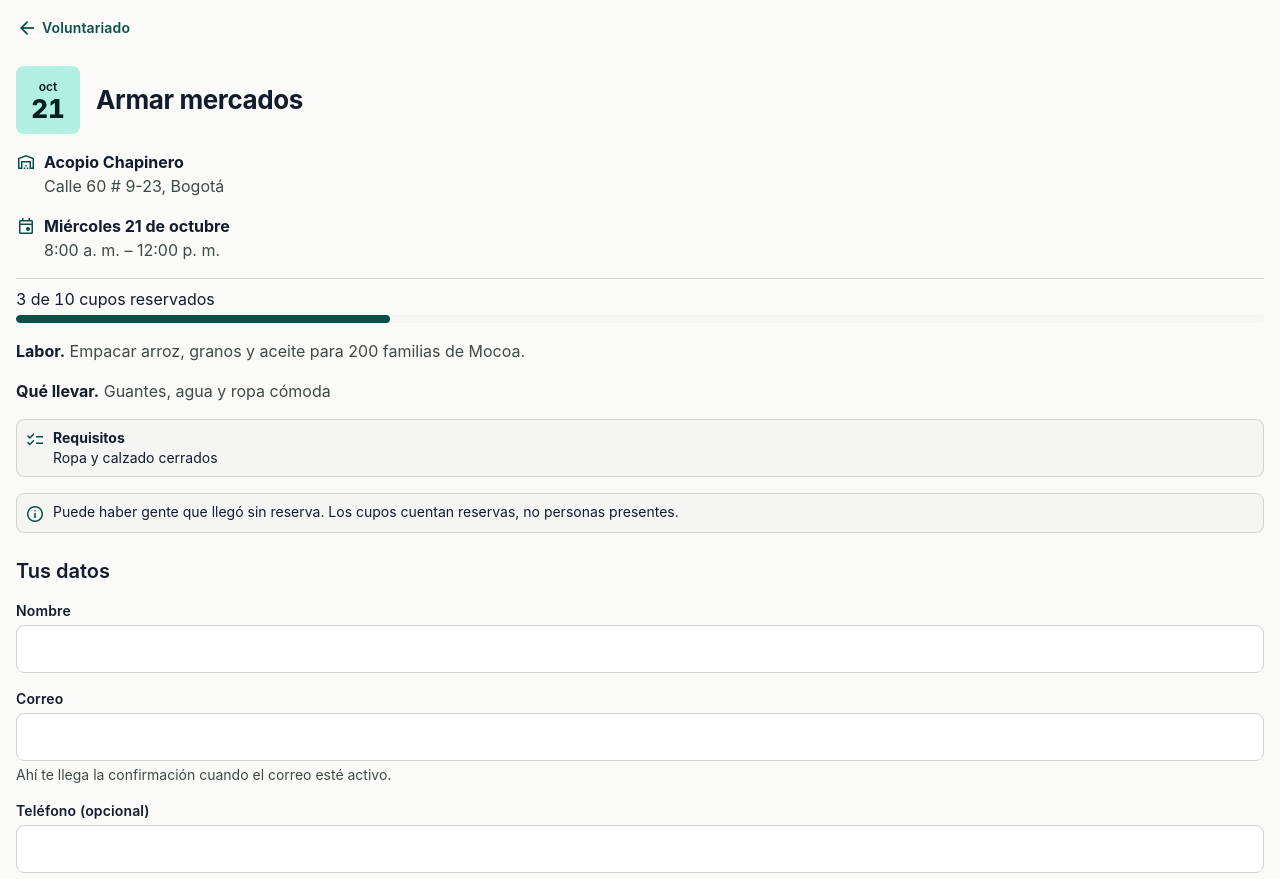
Test: no deja reservar con un nombre de una letra ni un teléfono con paréntesis
Type "A" into the field labelled "Nombre".
click(640, 649); type("A")  # box [16,625,1264,673]
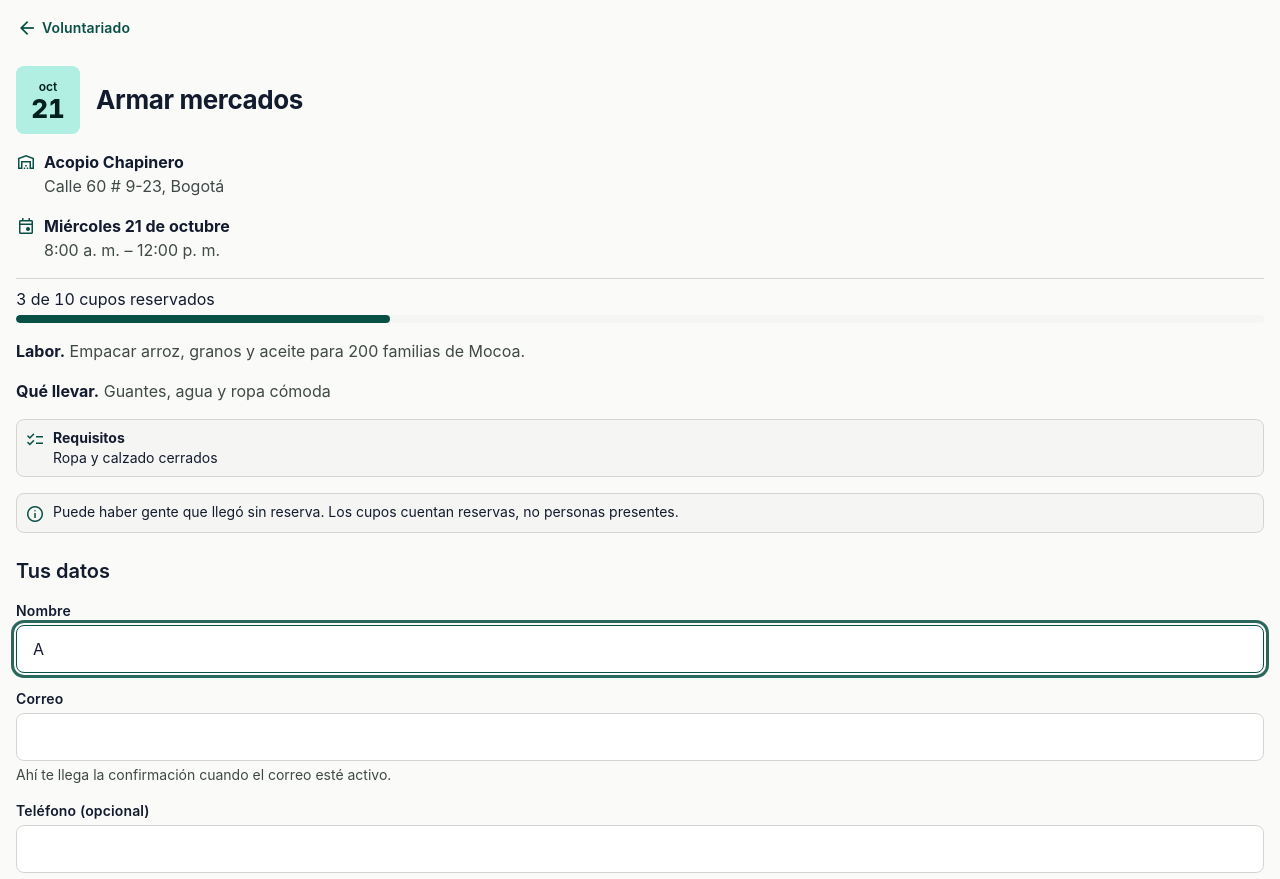
Type "ana@correo.co" into the field labelled "Correo".
click(640, 737); type("ana@correo.co")  # box [16,713,1264,761]
(page scrolled)
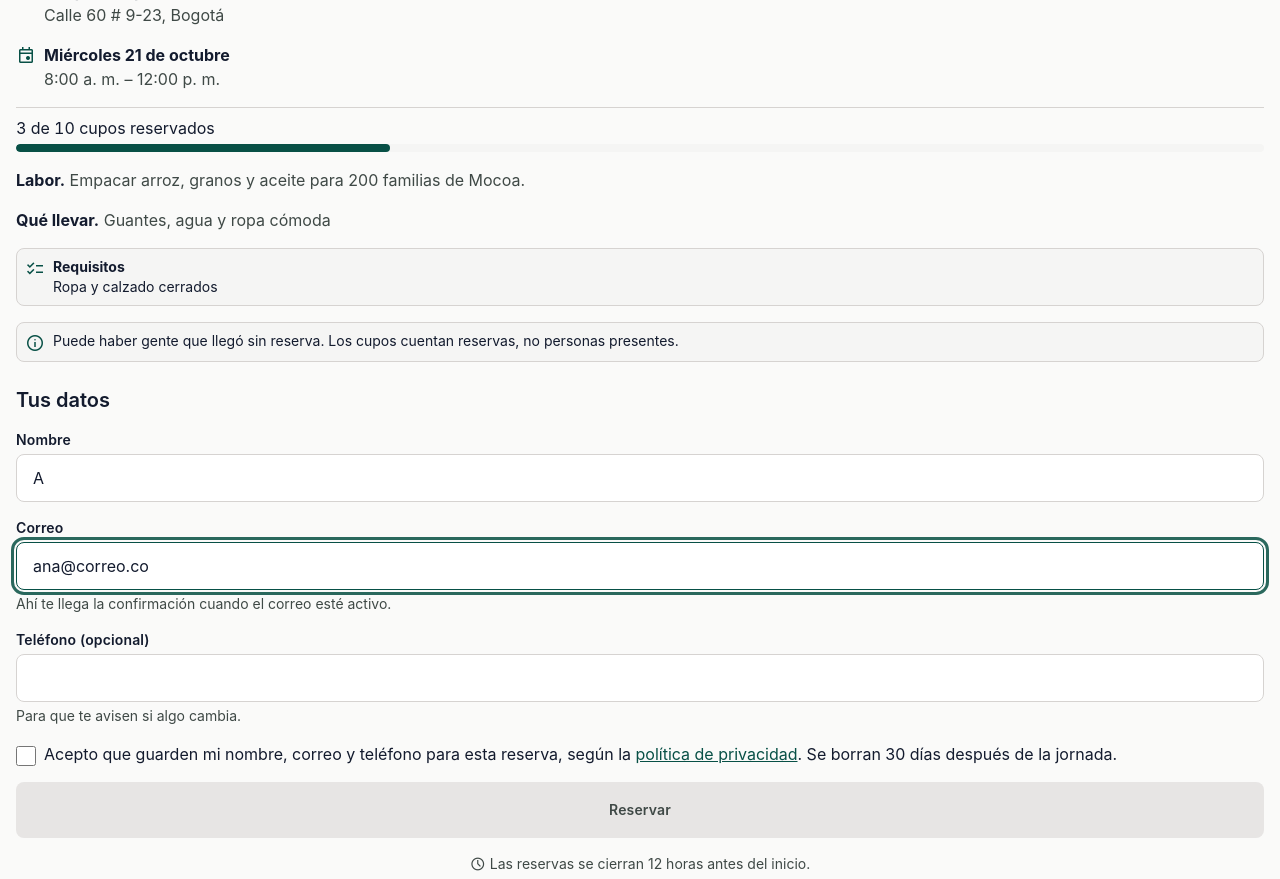
Click the checkbox labelled "Acepto que guarden".
click(26, 756)  # box [16,746,36,766]
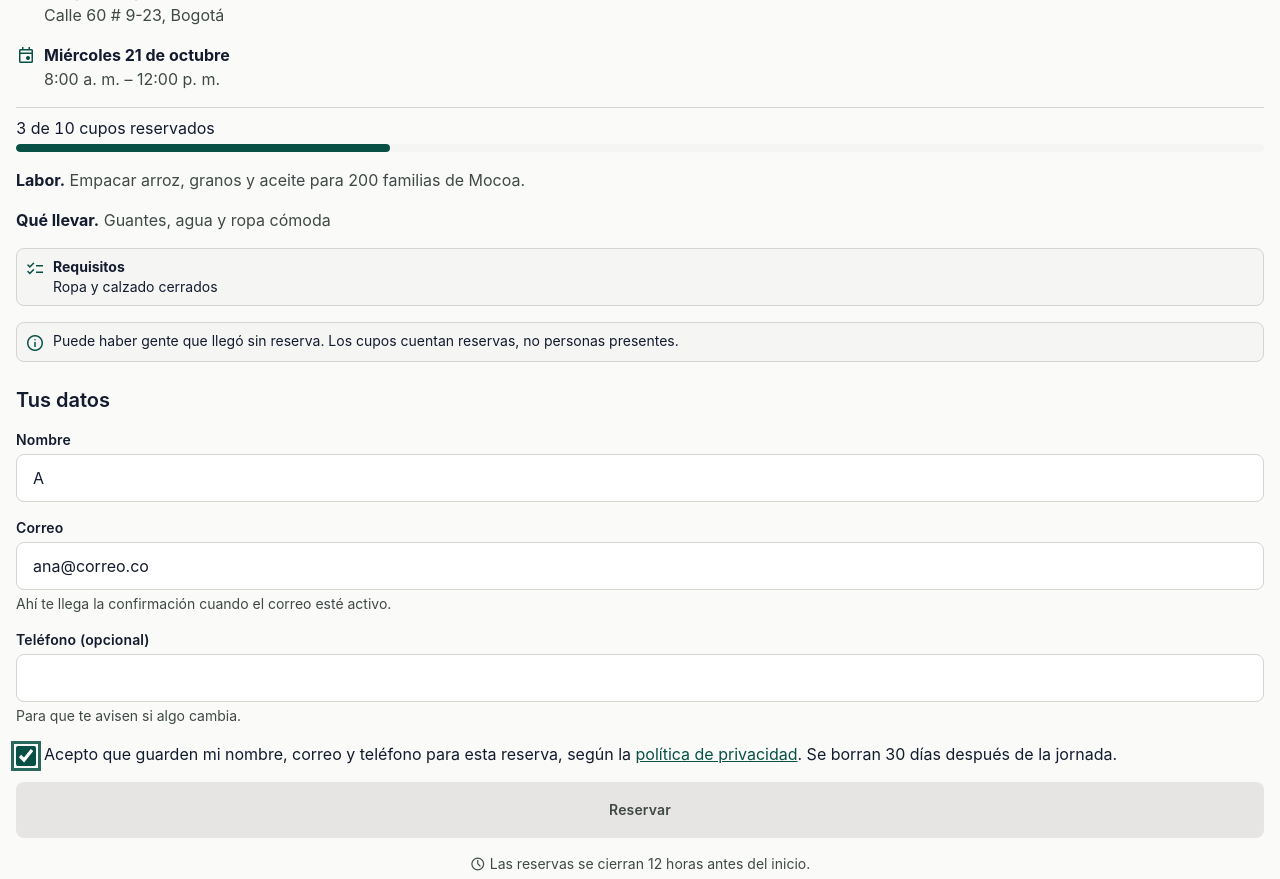
Expected: the button "Reservar" is disabled, [16,782,1264,838]
Type "na" into the field labelled "Nombre".
click(640, 478); type("na")  # box [16,454,1264,502]
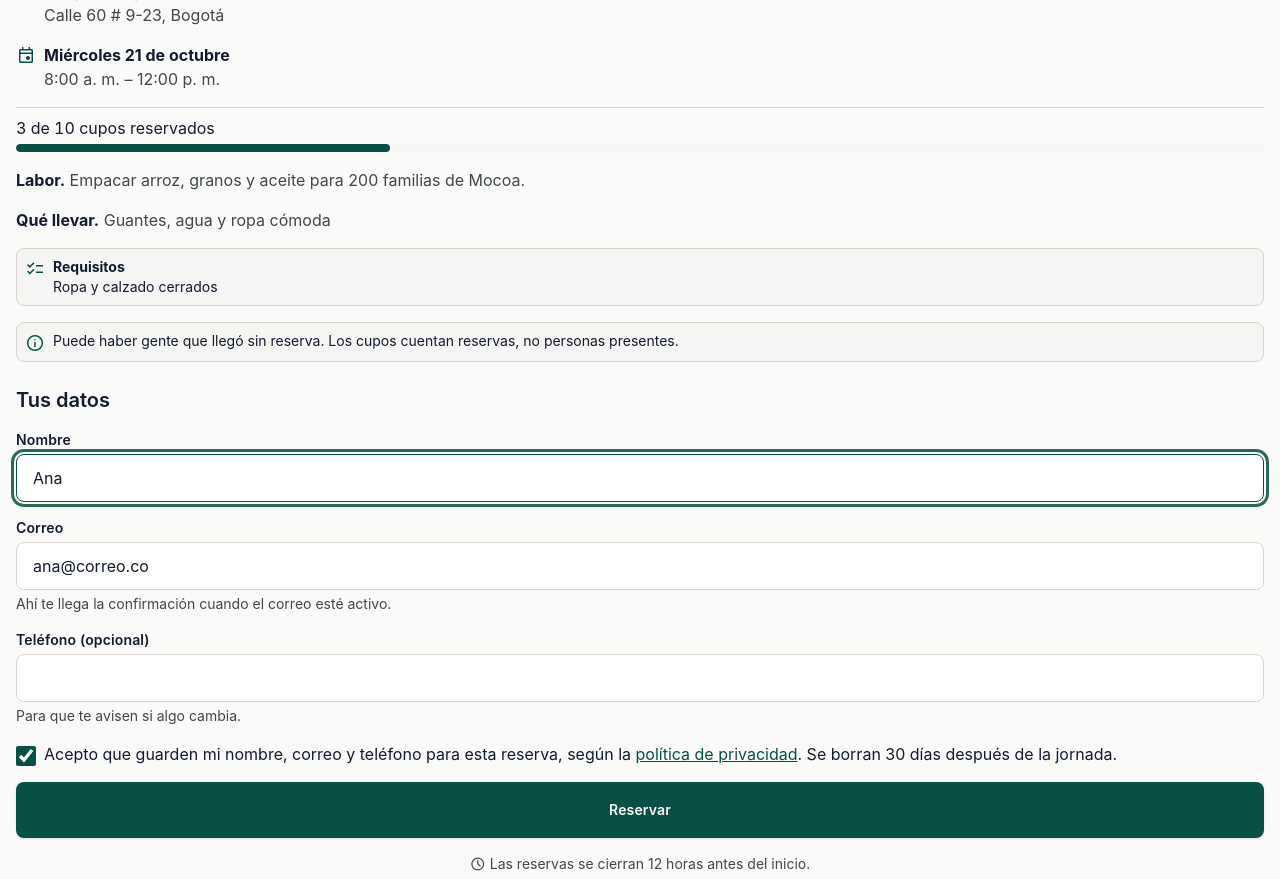
Now the button "Reservar" is enabled, box [16,782,1264,838]
Type "(310) 555" into the field labelled "Teléfono (opcional)".
click(640, 678); type("(310) 555")  # box [16,654,1264,702]
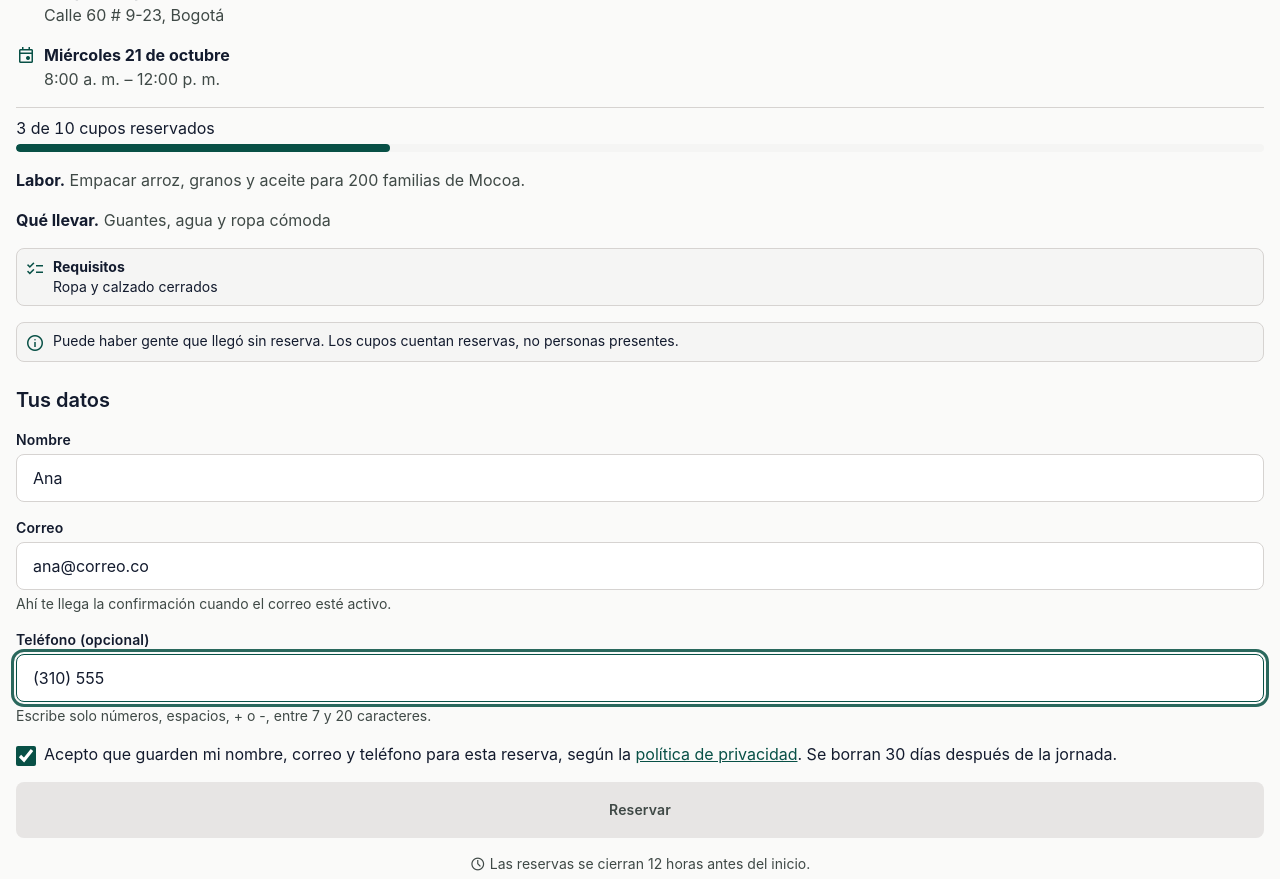
Now the button "Reservar" is disabled, box [16,782,1264,838]
Now the text "solo números, espacios, + o -" is shown, box [16,707,431,724]
